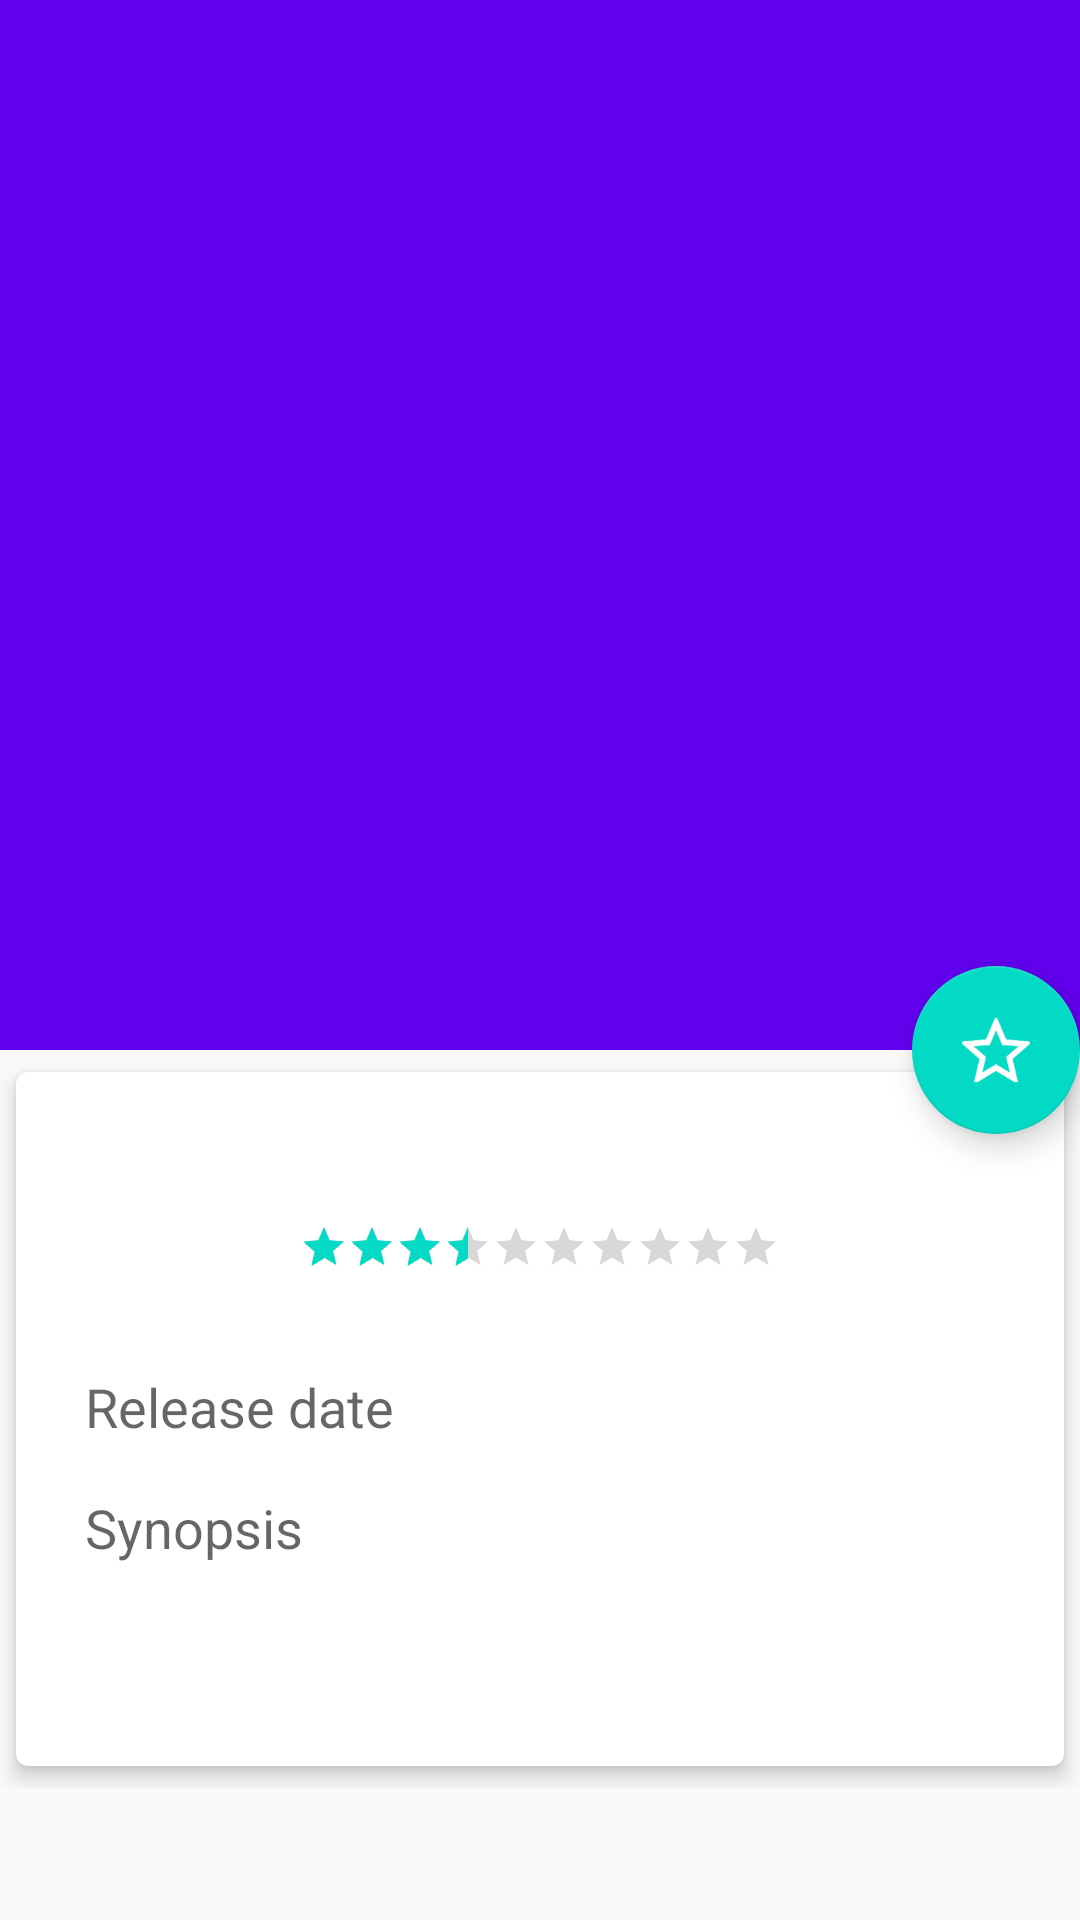

Named icons in this screenshot (1080x1920) and their centers, (x,y):
star empty: (996,1050)
